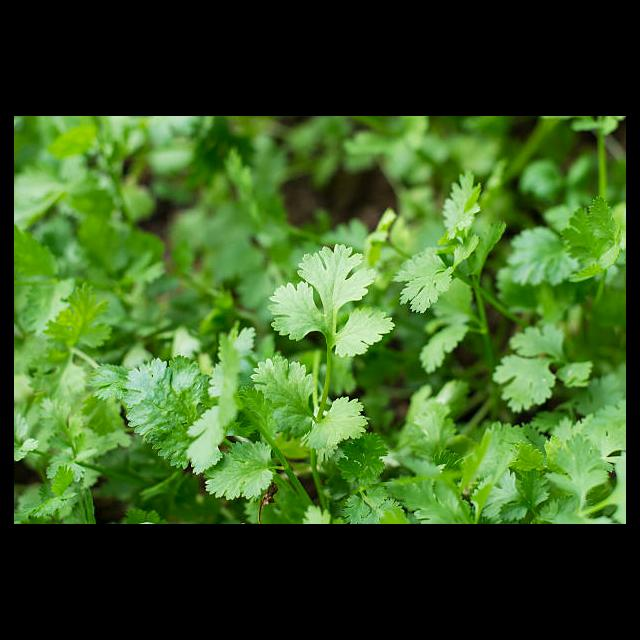cilantro: (14, 116, 626, 524)
